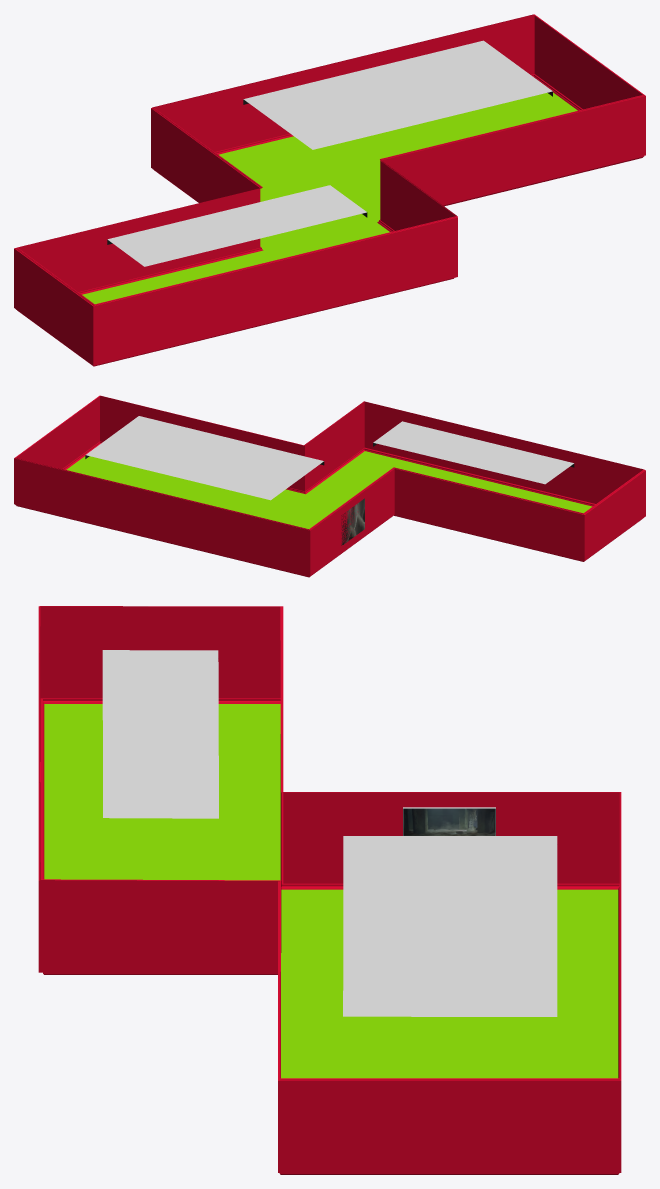
The model's file is museum.fbx.
The picture shows the model from 3 angles, top to bottom: view 1: azimuth 30°, elevation 25°; view 2: azimuth 150°, elevation 25°; view 3: azimuth 270°, elevation 25°; orthographic projection. The views are drawn at different scales.
Parts seen in each view (by area): view 1: Plane; view 2: Plane, Cube; view 3: Plane, Cube.
Boxes of the visible parts, x1,y1,x2,y2 form: Plane: (14,14,645,366); Plane: (14,395,645,577); Cube: (341,498,364,545); Plane: (38,606,621,1174); Cube: (403,807,495,835).
Bounding box in the file's own units: 3325 × 347 × 1726.
Materials: 6 (1 with a texture image).
